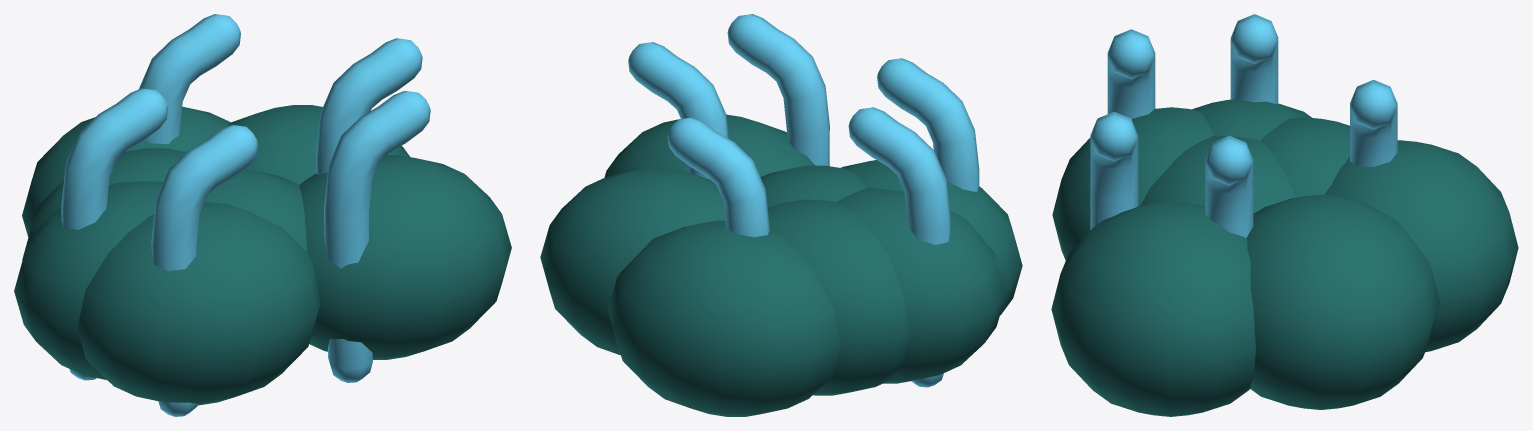
The model's file is moss_crop_ripe.glb.
The picture shows the model from 3 angles, left to right: view 1: azimuth 30°, elevation 25°; view 2: azimuth 150°, elevation 25°; view 3: azimuth 270°, elevation 25°; orthographic projection. The views are drawn at different scales.
Parts seen in each view (by area): view 1: Mound.001, Mound.008, Mound.004, Curved_shoot.003, Curved_shoot.001, Curved_shoot.004, Curved_shoot, Curved_shoot.002, Mound.005, Mound.002, Mound, Mound.007; view 2: Mound.002, Mound.005, Mound.004, Mound.007, Curved_shoot.003, Curved_shoot.004, Curved_shoot.001, Curved_shoot.002, Mound.008, Curved_shoot, Mound.001, Mound; view 3: Mound.008, Mound.005, Mound.002, Mound.001, Mound.007, Curved_shoot.003, Mound, Curved_shoot, Curved_shoot.004, Curved_shoot.001, Curved_shoot.002, Mound.004.
Part boxes in pixels (<box>): Mound.001: <box>77,202,320,405</box>; Mound.008: <box>299,155,511,359</box>; Mound.004: <box>14,181,163,379</box>; Curved_shoot.003: <box>324,91,430,382</box>; Curved_shoot.001: <box>151,125,258,416</box>; Curved_shoot.004: <box>61,88,167,380</box>; Curved_shoot: <box>316,38,422,174</box>; Curved_shoot.002: <box>138,14,240,144</box>; Mound.005: <box>228,105,409,184</box>; Mound.002: <box>22,106,230,236</box>; Mound: <box>204,169,307,252</box>; Mound.007: <box>22,148,186,260</box>; Mound.002: <box>608,220,841,416</box>; Mound.005: <box>540,168,725,355</box>; Mound.004: <box>837,187,1005,383</box>; Mound.007: <box>767,199,908,395</box>; Curved_shoot.003: <box>727,14,829,166</box>; Curved_shoot.004: <box>848,107,950,387</box>; Curved_shoot.001: <box>877,58,979,191</box>; Curved_shoot.002: <box>667,117,769,237</box>; Mound.008: <box>604,114,815,177</box>; Curved_shoot: <box>628,42,728,179</box>; Mound.001: <box>841,160,1022,315</box>; Mound: <box>760,165,867,207</box>; Mound.008: <box>1051,201,1255,416</box>; Mound.005: <box>1246,194,1439,409</box>; Mound.002: <box>1324,140,1518,352</box>; Mound.001: <box>1052,107,1213,260</box>; Mound.007: <box>1261,117,1349,197</box>; Curved_shoot.003: <box>1090,111,1138,230</box>; Mound: <box>1140,135,1295,213</box>; Curved_shoot: <box>1205,135,1253,237</box>; Curved_shoot.004: <box>1230,14,1278,104</box>; Curved_shoot.001: <box>1107,29,1155,118</box>; Curved_shoot.002: <box>1350,79,1397,166</box>; Mound.004: <box>1192,99,1311,140</box>.
Size of the model in its own units: 0.6063 by 0.3679 by 0.5479.
